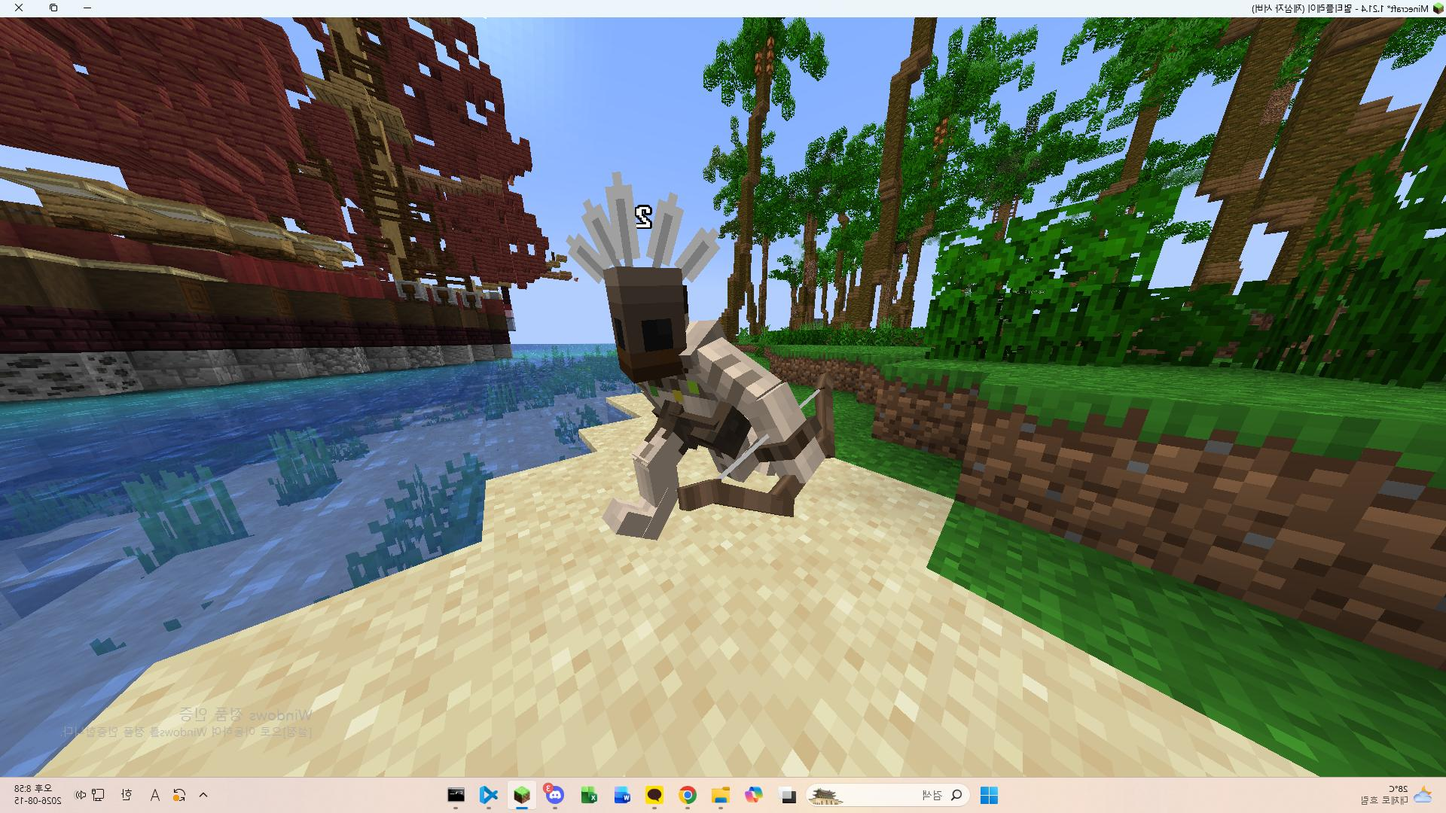bow_indian: (499, 171, 866, 579)
